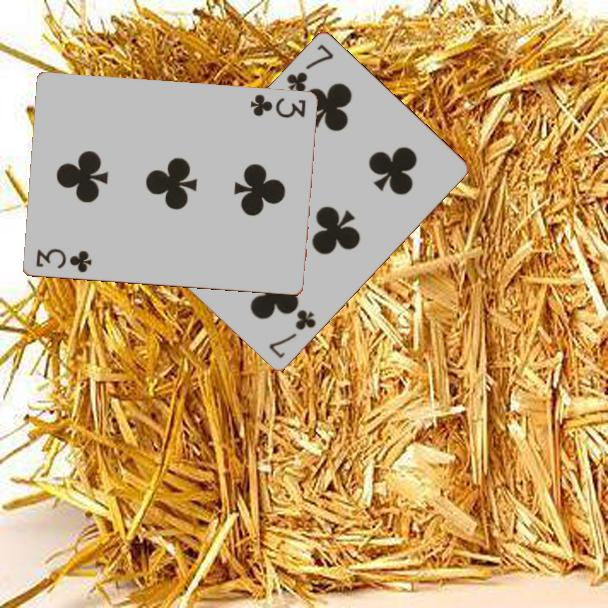c03: (32, 245, 94, 276), (247, 91, 308, 121)
c07: (265, 306, 319, 362), (283, 41, 336, 96)
